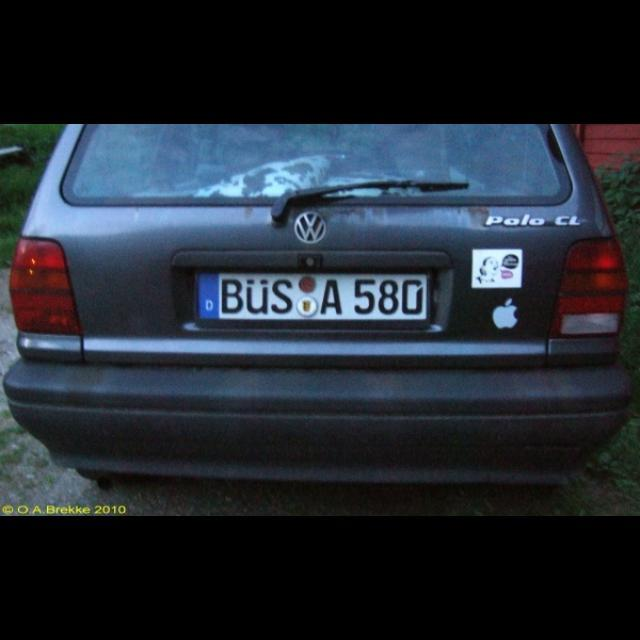license-plates: (197, 273, 429, 322)
